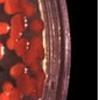red: (14, 74, 36, 98), (28, 56, 46, 80), (9, 15, 31, 31), (8, 62, 29, 78), (0, 88, 25, 100), (33, 76, 45, 100), (30, 17, 46, 34), (19, 4, 39, 17), (3, 0, 20, 15), (29, 44, 45, 59), (8, 28, 26, 41), (0, 40, 8, 64), (0, 80, 14, 93), (16, 0, 34, 10), (23, 51, 36, 64), (29, 35, 43, 47), (6, 38, 17, 53), (13, 46, 26, 58), (0, 21, 10, 35), (16, 37, 26, 48), (0, 0, 10, 4)
